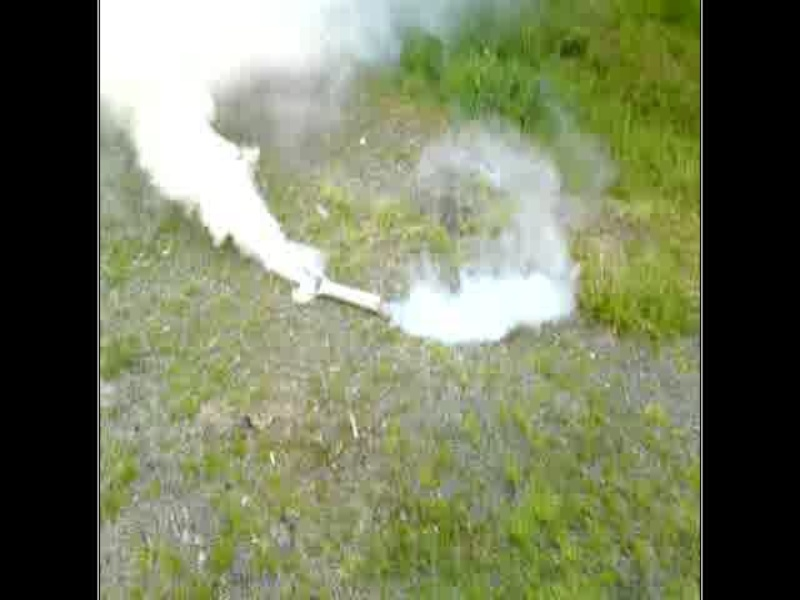smoke: (98, 1, 272, 239)
